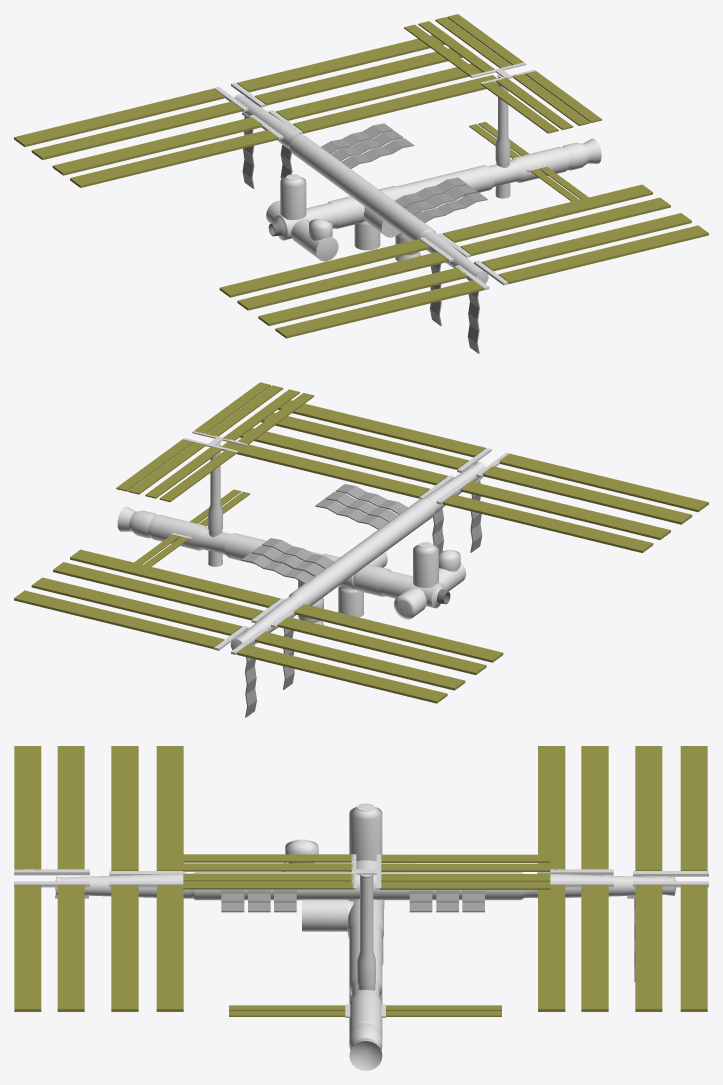
Rendered from Iss.fbx.
3 views of the same model, one above another, from view 1: azimuth 30°, elevation 25°; view 2: azimuth 150°, elevation 25°; view 3: azimuth 270°, elevation 25° (orthographic). The views are drawn at different scales.
Visible parts, largest first — view 1: pCylinder1, pCylinder8, pCube101, pCube102, pCube11, pCube12, pCube10, pCube100, pCube80, pCube78, pCube79, pCube77 (+18 smaller); view 2: pCylinder1, pCylinder8, pCube11, pCube12, pCube102, pCube101, pCube9, pCube99, pCube100, pCube10, pCube13, pCube14 (+18 smaller); view 3: pCylinder8, pCylinder1, pCube13, pCube14, pCube15, pCube77, pCube78, pCube79, pCube80, pCube11, pCube12, pCube101 (+23 smaller).
Part boxes in pixels (x1,y1,x2,y2): pCylinder1: [268, 138, 601, 240]; pCylinder8: [234, 94, 488, 283]; pCube101: [237, 252, 447, 310]; pCube102: [219, 239, 429, 297]; pCube11: [31, 101, 242, 160]; pCube12: [14, 88, 224, 146]; pCube10: [52, 117, 262, 175]; pCube100: [258, 267, 467, 325]; pCube80: [498, 225, 708, 283]; pCube78: [460, 197, 670, 256]; pCube79: [481, 213, 691, 271]; pCube77: [442, 184, 652, 242]; pCylinder1: [117, 506, 450, 608]; pCylinder8: [230, 461, 485, 649]; pCube11: [255, 632, 465, 690]; pCube12: [237, 645, 447, 703]; pCube102: [442, 494, 653, 552]; pCube101: [460, 481, 670, 539]; pCube9: [293, 604, 503, 662]; pCube99: [499, 453, 708, 512]; pCube100: [482, 466, 692, 524]; pCube10: [277, 617, 486, 675]; pCube13: [14, 590, 224, 649]; pCube14: [31, 577, 242, 635]; pCylinder8: [55, 872, 676, 900]; pCylinder1: [347, 860, 384, 1070]; pCube13: [680, 885, 707, 1011]; pCube14: [635, 885, 662, 1011]; pCube15: [581, 885, 608, 1011]; pCube77: [156, 885, 183, 1011]; pCube78: [111, 885, 138, 1011]; pCube79: [57, 885, 84, 1011]; pCube80: [14, 885, 41, 1011]; pCube11: [635, 746, 662, 870]; pCube12: [680, 746, 707, 870]; pCube101: [111, 746, 138, 870].
Size of the model in its own units: 39.66 by 13.7 by 41.89.
